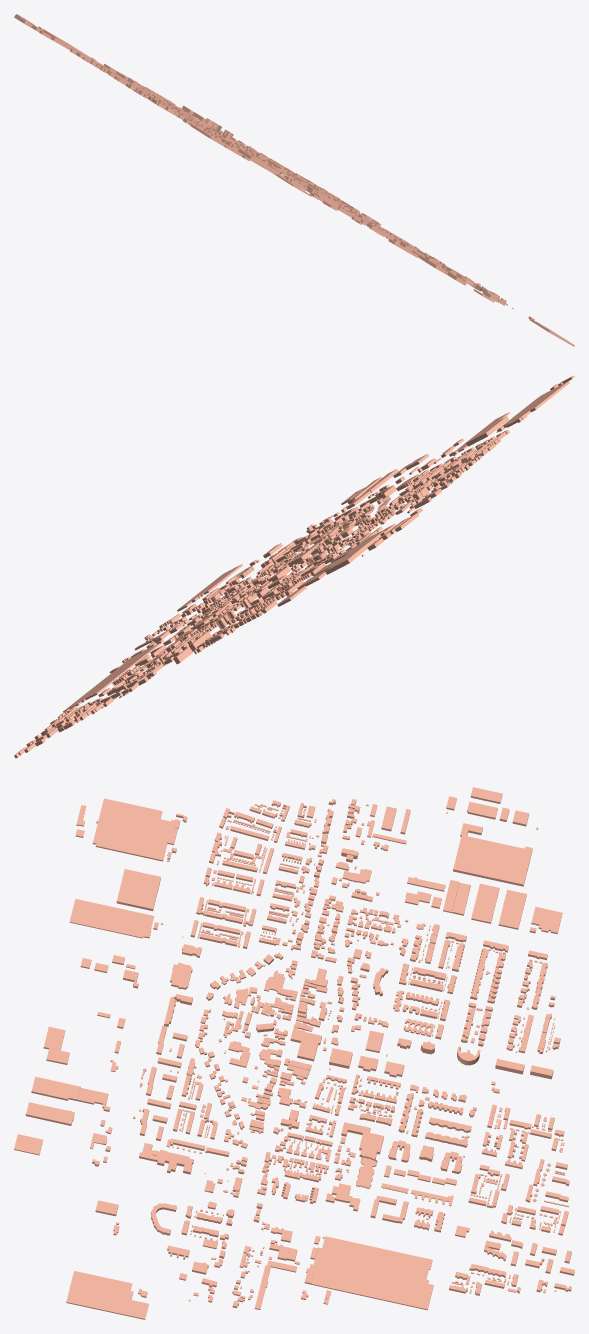
3 views of the same model, one above another, from view 1: azimuth 30°, elevation 25°; view 2: azimuth 150°, elevation 25°; view 3: azimuth 270°, elevation 25° (orthographic). The views are drawn at different scales.
Bounding box in the file's own units: 1043 × 774 × 1199.
